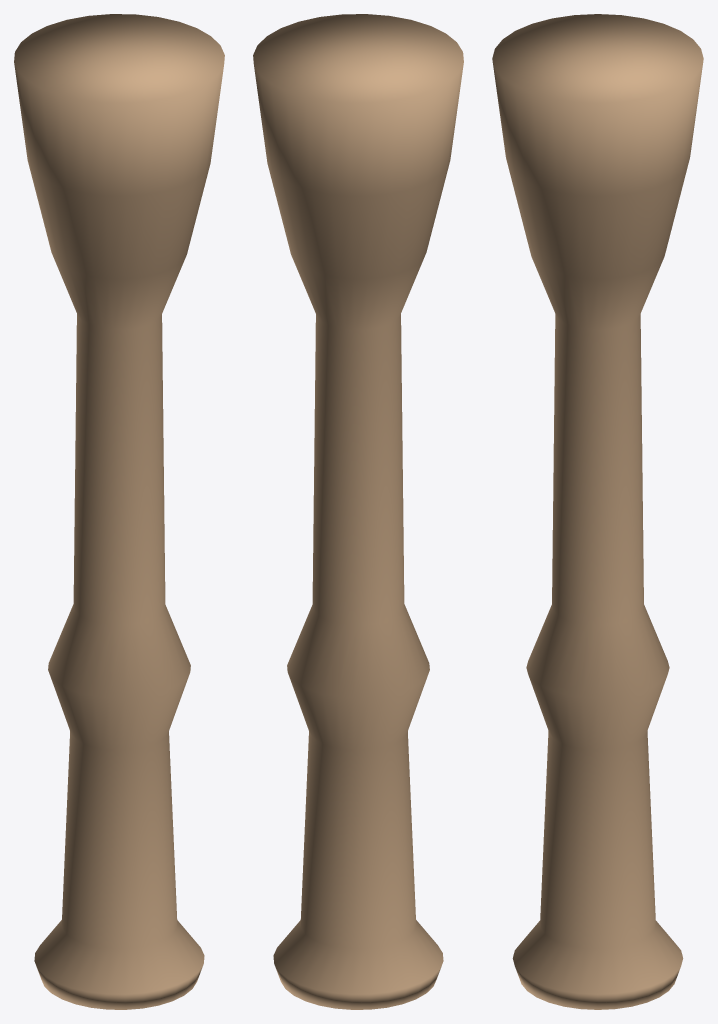
File: DiceDashTableLeg.glb
The picture shows the model from 3 angles, left to right: view 1: azimuth 30°, elevation 25°; view 2: azimuth 150°, elevation 25°; view 3: azimuth 270°, elevation 25°; orthographic projection.
Parts seen in each view (by area): view 1: Leg; view 2: Leg; view 3: Leg.
Boxes of the visible parts, x1,y1,x2,y2 form: Leg: (14,14,224,1009); Leg: (253,14,463,1009); Leg: (492,14,703,1009).
Bounding box in the file's own units: 6.2 × 29.7 × 6.2.
